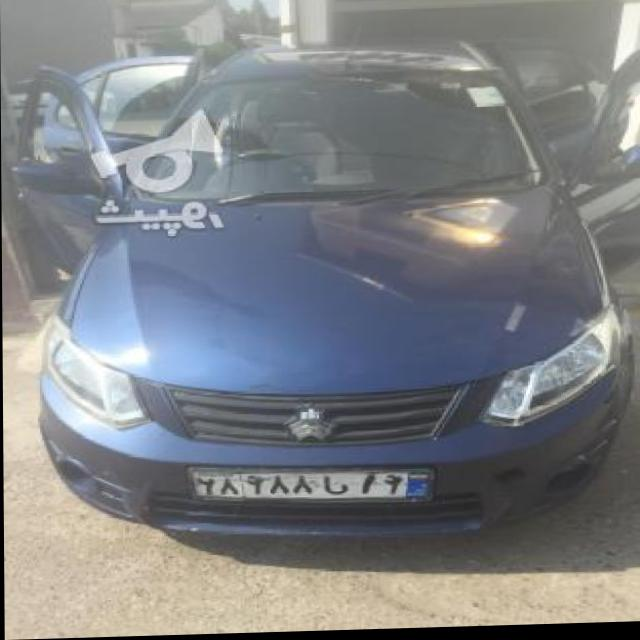licence: (187, 459, 438, 514)
